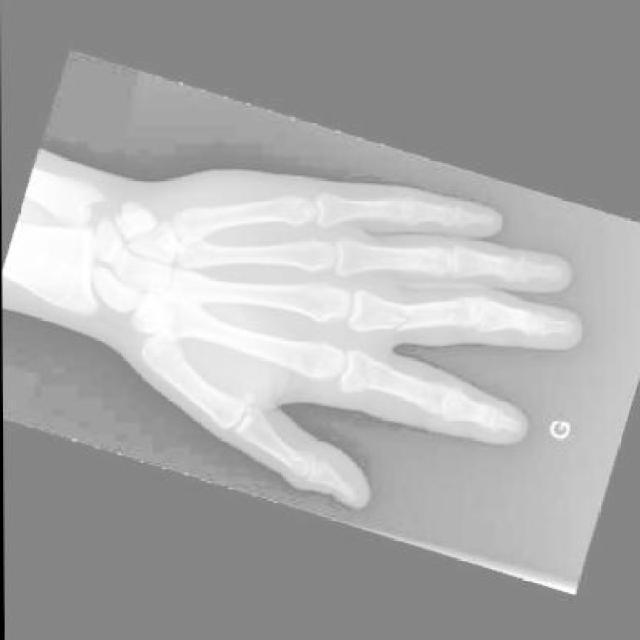Fracture: (348, 349, 398, 400), (386, 293, 422, 333)
